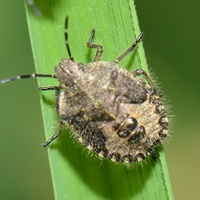insect: (63, 108, 168, 163), (109, 68, 145, 103)
